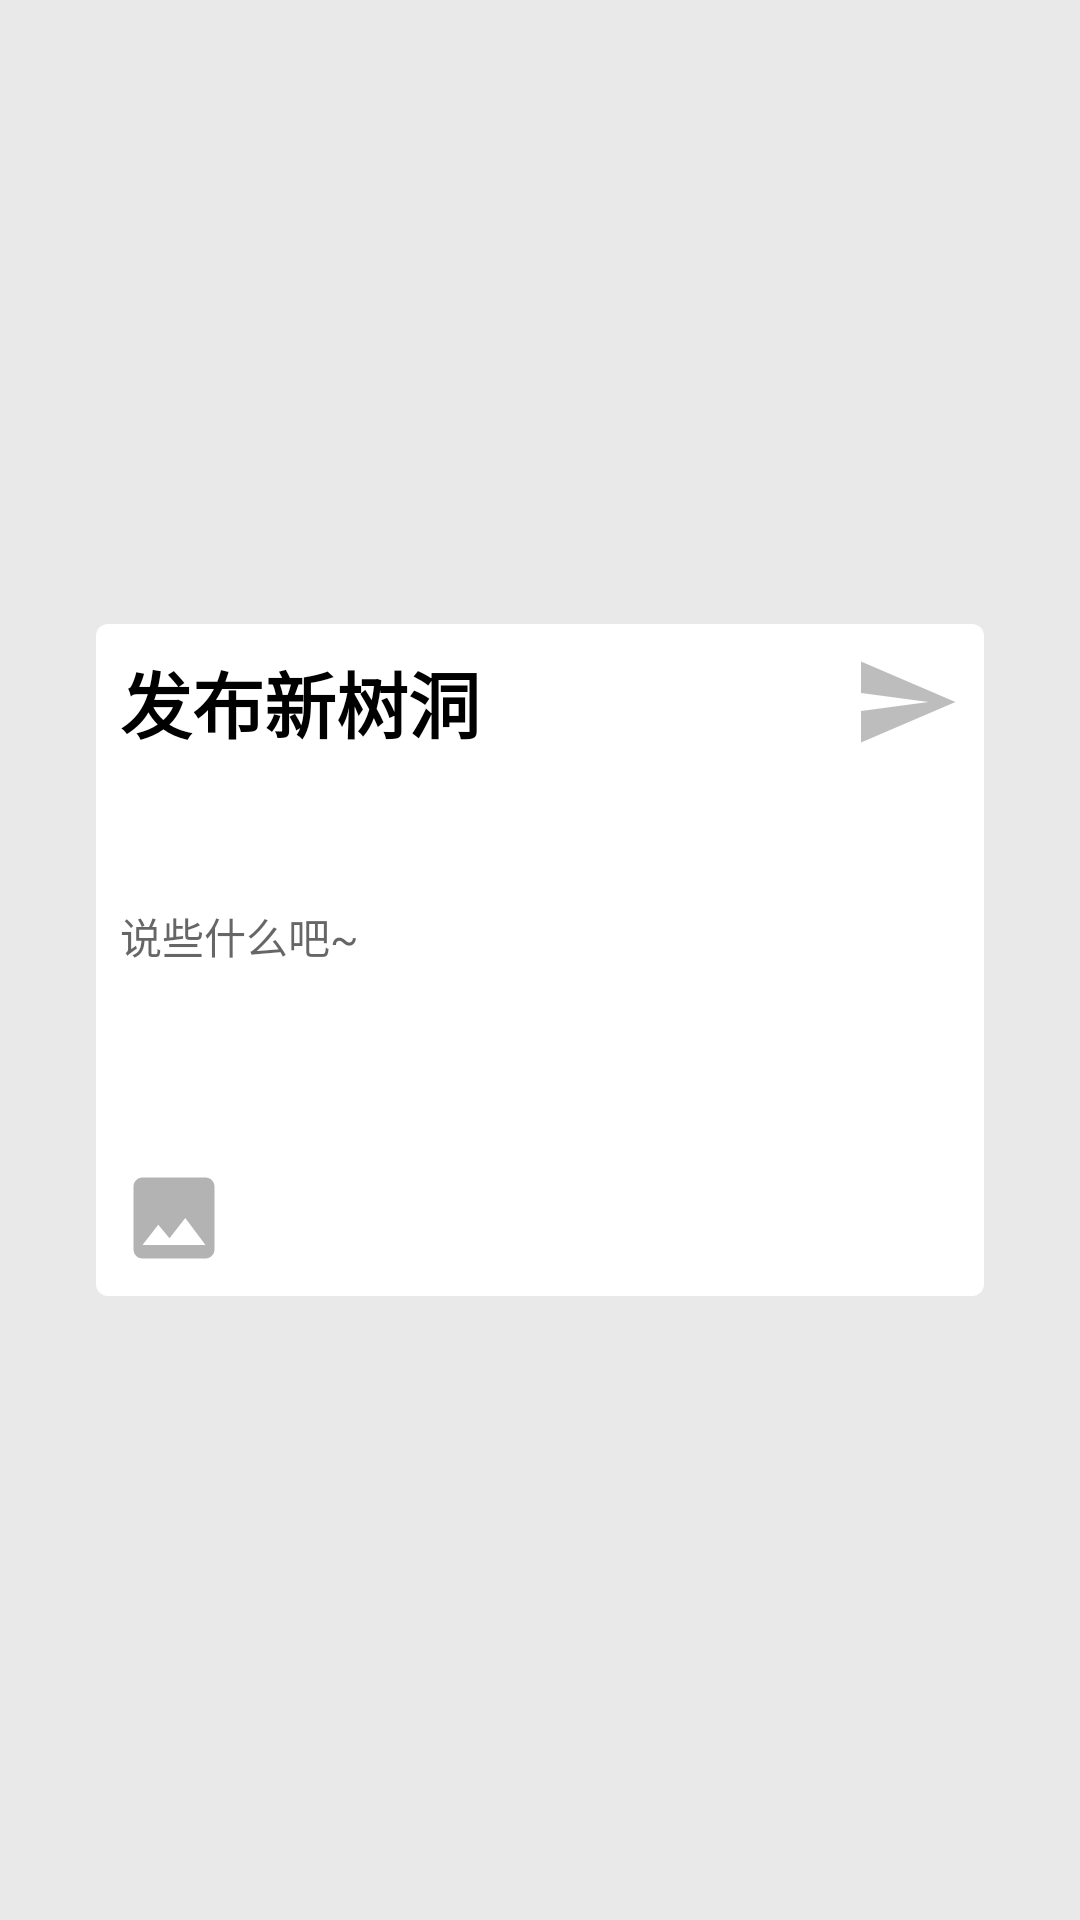

Named icons in this screenshot (1080px×1920px) and their centers, (x,y):
insert photo: (174,1218)
send: (908,702)
